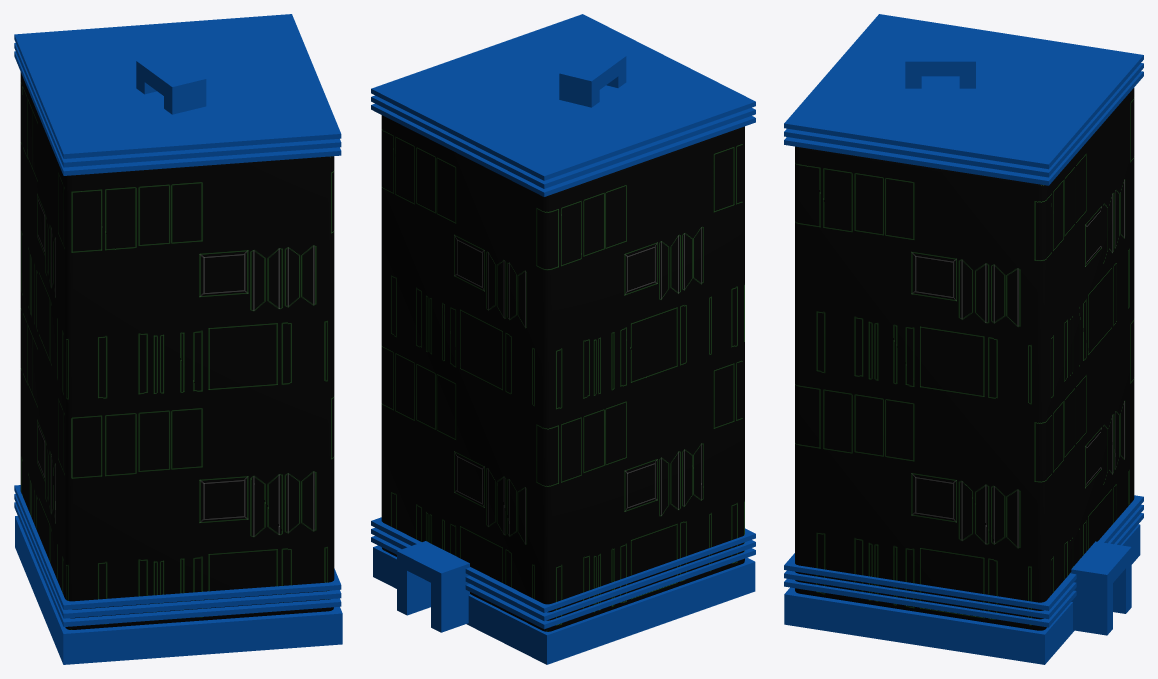
The model's file is Highrise.FBX.
3 renders of one model, left to right at view 1: azimuth 30°, elevation 25°; view 2: azimuth 150°, elevation 25°; view 3: azimuth 270°, elevation 25°, orthographic. The views are drawn at different scales.
Visible parts, largest first — view 1: ChamferBox03, Box19, Box16, Box21, Box17, Box18, C-Ext06, Box20, Box22; view 2: ChamferBox03, Box19, Box16, C-Ext03, Box18, Box17, C-Ext06, Box21, Box20, Box22; view 3: ChamferBox03, Box19, Box16, C-Ext03, Box17, Box18, Box21, C-Ext06, Box20, Box22.
Boxes of the visible parts, left/top/right/bottom form: ChamferBox03: left=20, top=72, right=334, bottom=629; Box19: left=14, top=14, right=341, bottom=158; Box16: left=15, top=516, right=342, bottom=664; Box21: left=14, top=485, right=341, bottom=609; Box17: left=14, top=51, right=341, bottom=175; Box18: left=14, top=43, right=341, bottom=167; C-Ext06: left=136, top=52, right=206, bottom=114; Box20: left=14, top=494, right=341, bottom=618; Box22: left=14, top=502, right=341, bottom=626; ChamferBox03: left=381, top=115, right=744, bottom=631; Box19: left=371, top=14, right=755, bottom=180; Box16: left=373, top=545, right=755, bottom=664; C-Ext03: left=397, top=541, right=469, bottom=632; Box18: left=371, top=95, right=755, bottom=188; Box17: left=371, top=103, right=755, bottom=196; C-Ext06: left=559, top=48, right=626, bottom=107; Box21: left=371, top=517, right=755, bottom=612; Box20: left=371, top=527, right=755, bottom=620; Box22: left=371, top=536, right=755, bottom=629; ChamferBox03: left=795, top=88, right=1134, bottom=630; Box19: left=784, top=14, right=1143, bottom=169; Box16: left=784, top=524, right=1140, bottom=664; C-Ext03: left=1071, top=541, right=1131, bottom=635; Box17: left=784, top=71, right=1143, bottom=185; Box18: left=784, top=63, right=1143, bottom=177; Box21: left=784, top=495, right=1143, bottom=610; C-Ext06: left=905, top=45, right=975, bottom=88; Box20: left=784, top=504, right=1143, bottom=619; Box22: left=784, top=513, right=1143, bottom=627.
Bounding box in the file's own units: 107 × 174 × 108.
